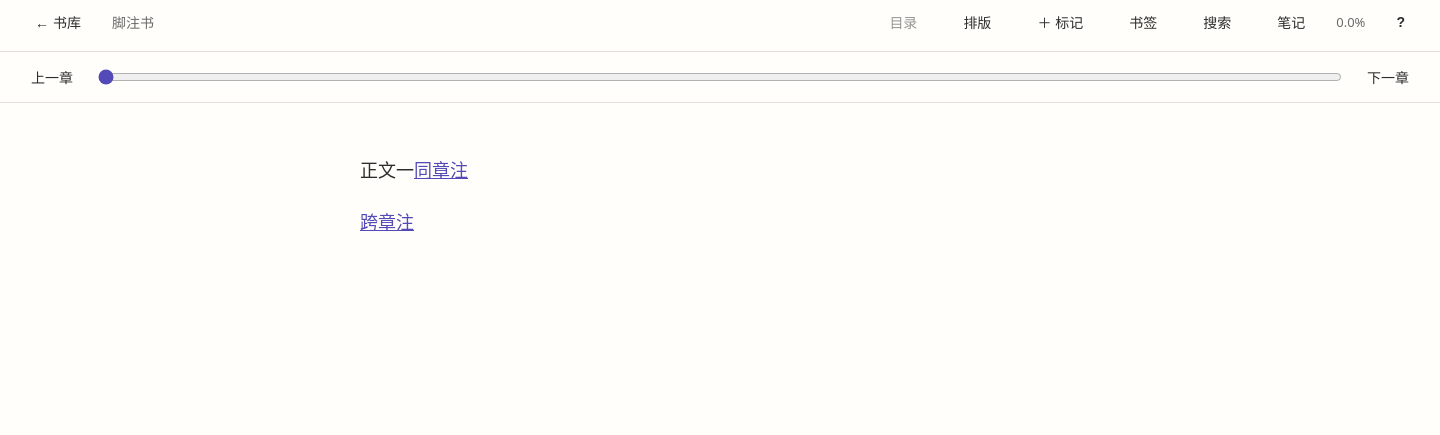
Test case: 阅读器 › 点跨章脚注会加载并跳到目标章
Check: the text "c2 的正文" is not shown
Click the link with id "fn2": (387, 222) [360,210,414,234]
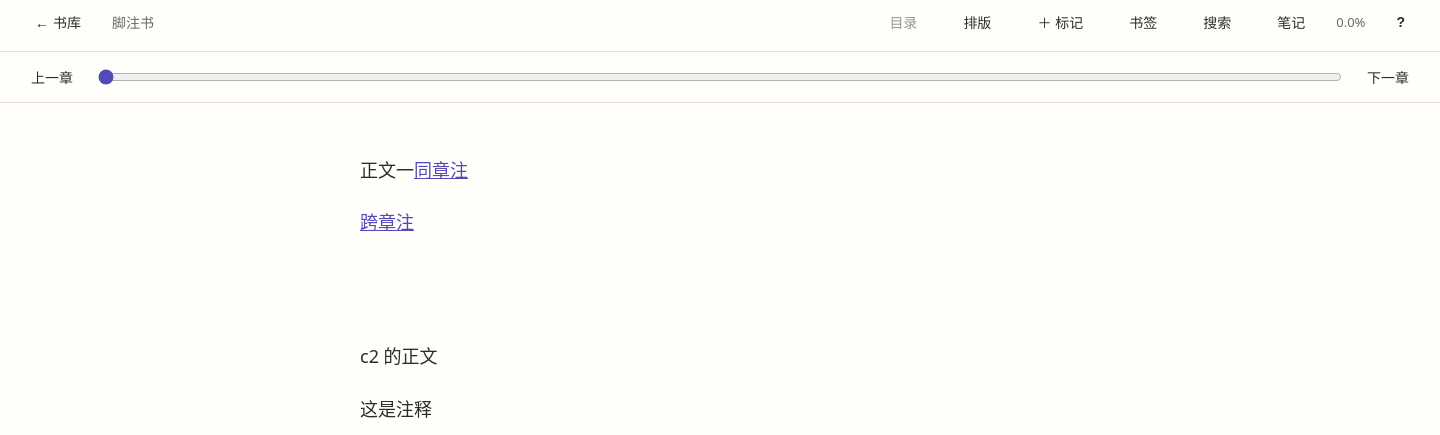
Check: the text "c2 的正文" is shown, box [360,344,438,368]
